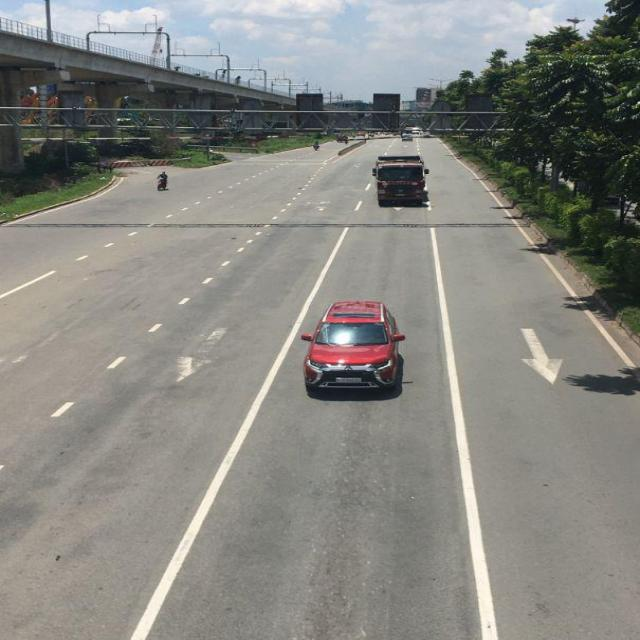car: (304, 299, 410, 397)
motorcycle: (156, 170, 170, 190)
truck: (374, 152, 430, 206)
